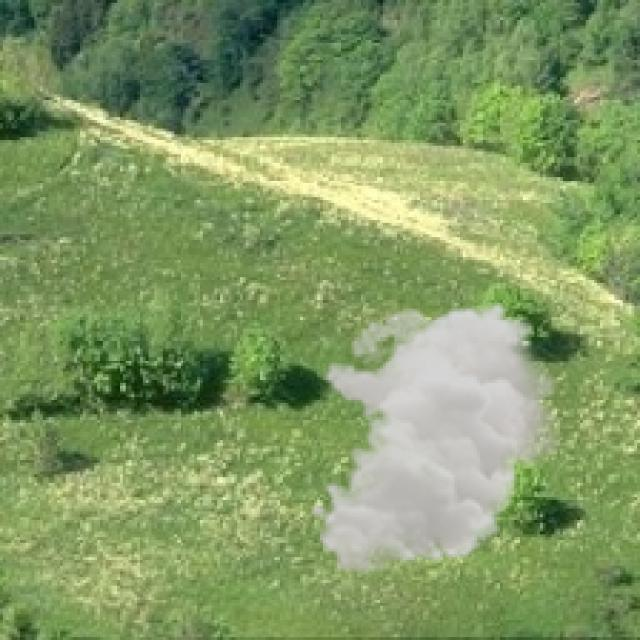Smoke: (308, 300, 568, 574)
